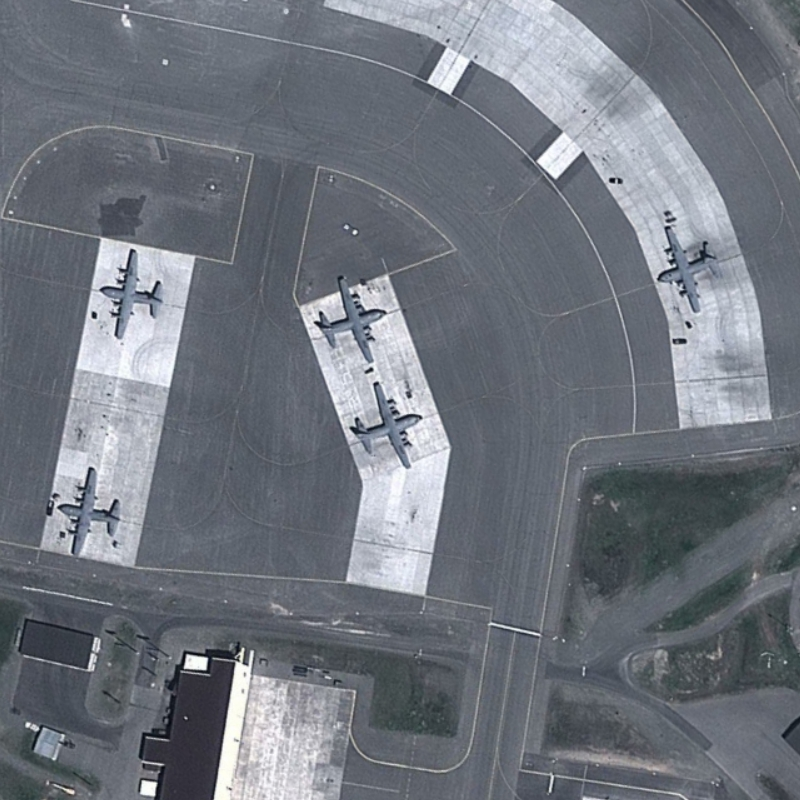A2: (345, 377, 429, 472), (53, 457, 127, 562), (93, 245, 171, 341), (655, 215, 726, 320), (315, 272, 390, 366)
